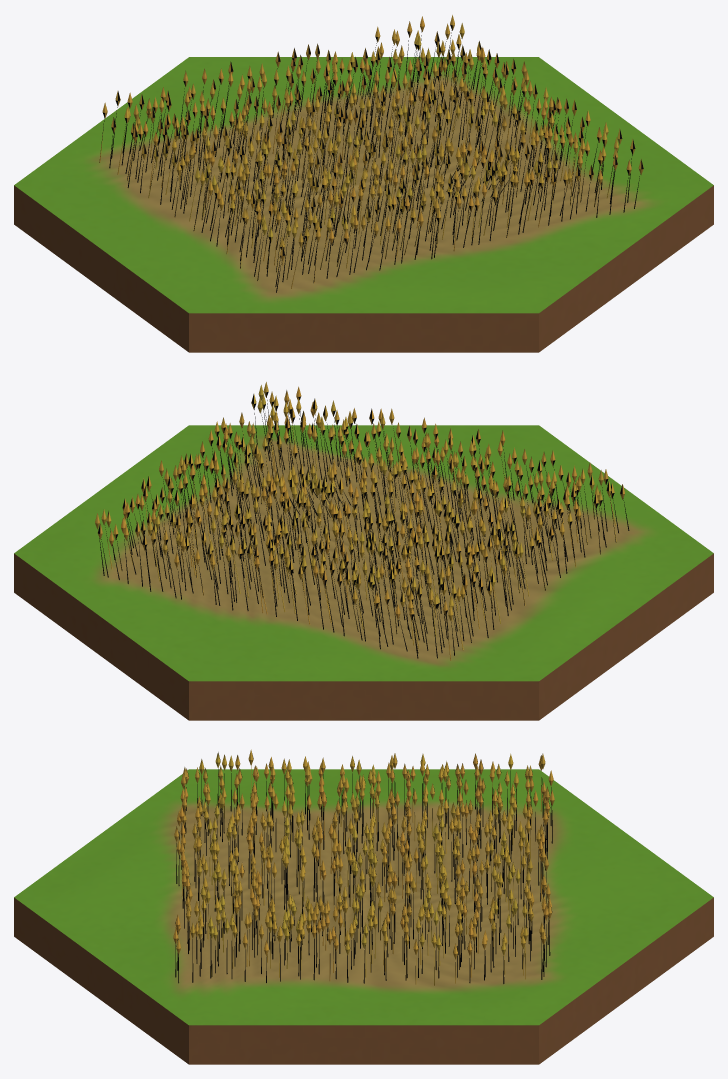
Rendered from SM_CerealNatural_A_LOD0.fbx.
3 renders of one model, top to bottom at view 1: azimuth 30°, elevation 25°; view 2: azimuth 150°, elevation 25°; view 3: azimuth 270°, elevation 25°, orthographic.
Parts seen in each view (by area): view 1: SM_CerealNatural_A_LOD0; view 2: SM_CerealNatural_A_LOD0; view 3: SM_CerealNatural_A_LOD0.
Part boxes in pixels (box(x1,y1,x2,y2)): SM_CerealNatural_A_LOD0: box(14, 15, 713, 352); SM_CerealNatural_A_LOD0: box(14, 382, 713, 720); SM_CerealNatural_A_LOD0: box(14, 749, 713, 1064).
Size of the model in its own units: 1.68 by 0.3364 by 1.94.
Materials: 1 (1 with a texture image).
